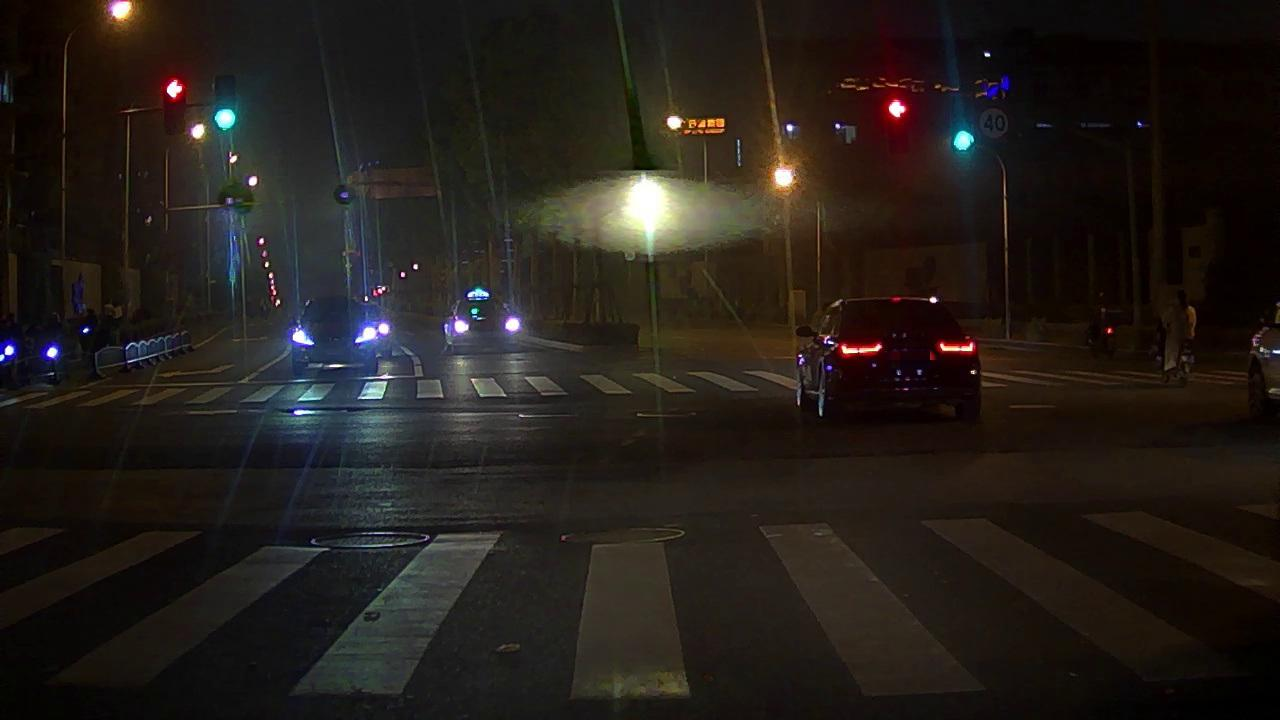traffic_light: (950, 99, 974, 162), (214, 75, 238, 136), (166, 79, 187, 133), (888, 97, 906, 119)
